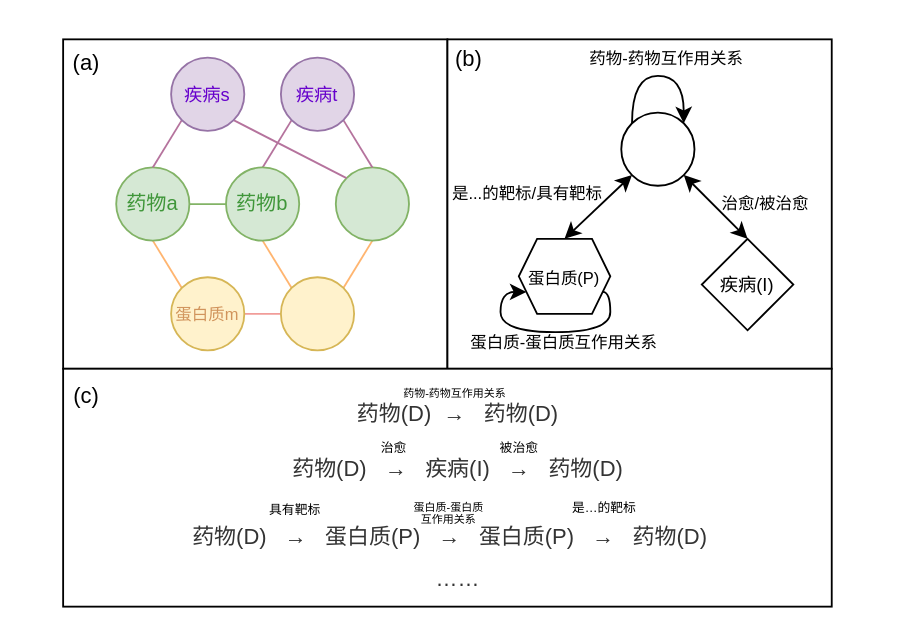
Image size: 915x639. Some labels were removed from this diagram. Each missing label, with the box of its shape:
药物(D): (619, 111, 694, 186)
药物c: (334, 166, 409, 241)
蛋白质n: (279, 275, 354, 350)
